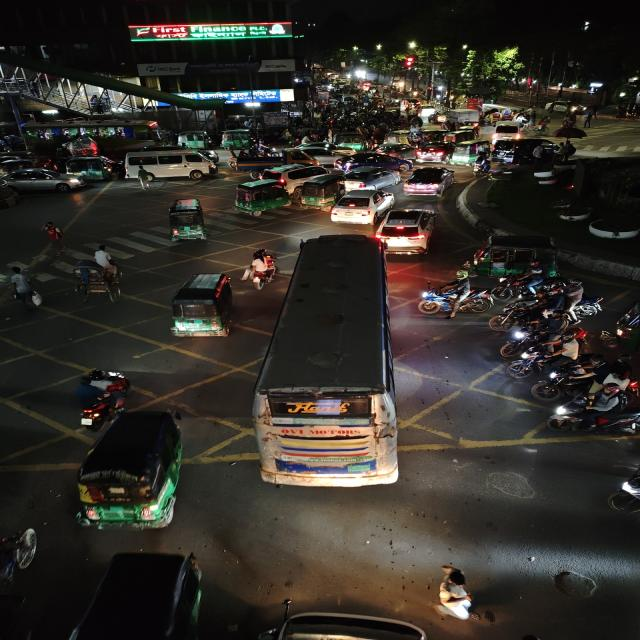bus: (256, 235, 398, 491)
car: (123, 147, 220, 182), (377, 206, 441, 256), (329, 187, 395, 225), (1, 166, 81, 192), (401, 165, 459, 200), (257, 163, 337, 186), (342, 167, 399, 190), (341, 155, 413, 172), (296, 145, 341, 164), (492, 123, 526, 141)
cng: (72, 402, 190, 536), (66, 550, 213, 640), (167, 270, 238, 342), (476, 232, 559, 278), (231, 179, 291, 217), (163, 197, 211, 244), (298, 175, 343, 209), (411, 129, 456, 163), (62, 155, 113, 181), (451, 138, 489, 166), (328, 128, 369, 150), (220, 128, 253, 150), (177, 129, 212, 149)
motorcycle: (498, 342, 615, 380), (550, 387, 637, 434), (414, 268, 484, 320), (496, 320, 599, 355), (484, 302, 598, 333), (424, 562, 482, 621), (74, 368, 131, 428), (493, 274, 579, 307), (602, 291, 640, 349), (240, 246, 280, 290), (470, 155, 496, 179), (532, 117, 552, 135)
pedestrian: (6, 264, 40, 313), (40, 220, 66, 249), (580, 105, 597, 127)
pickup_van: (235, 152, 317, 170)
rickshaw: (69, 252, 132, 303)
